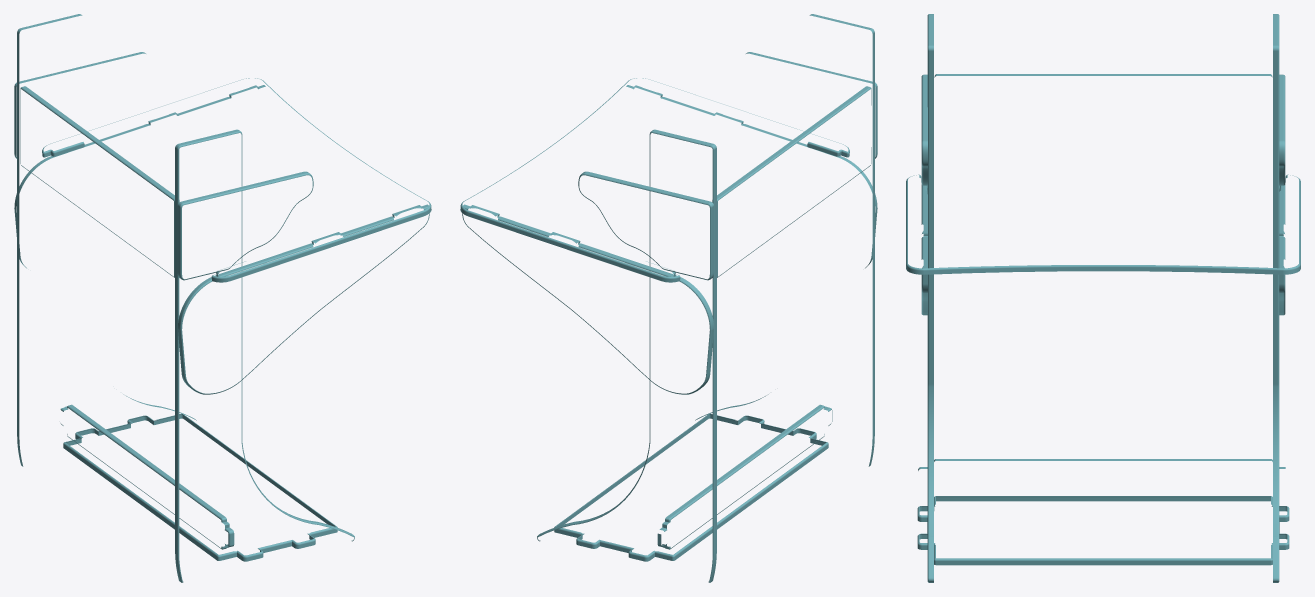
Rendered from fullTrim.glb.
3 views of the same model, side by side, from view 1: azimuth 30°, elevation 25°; view 2: azimuth 150°, elevation 25°; view 3: azimuth 270°, elevation 25° (orthographic). The views are drawn at different scales.
Size of the model in its own units: 36.99 by 61.98 by 46.48.
